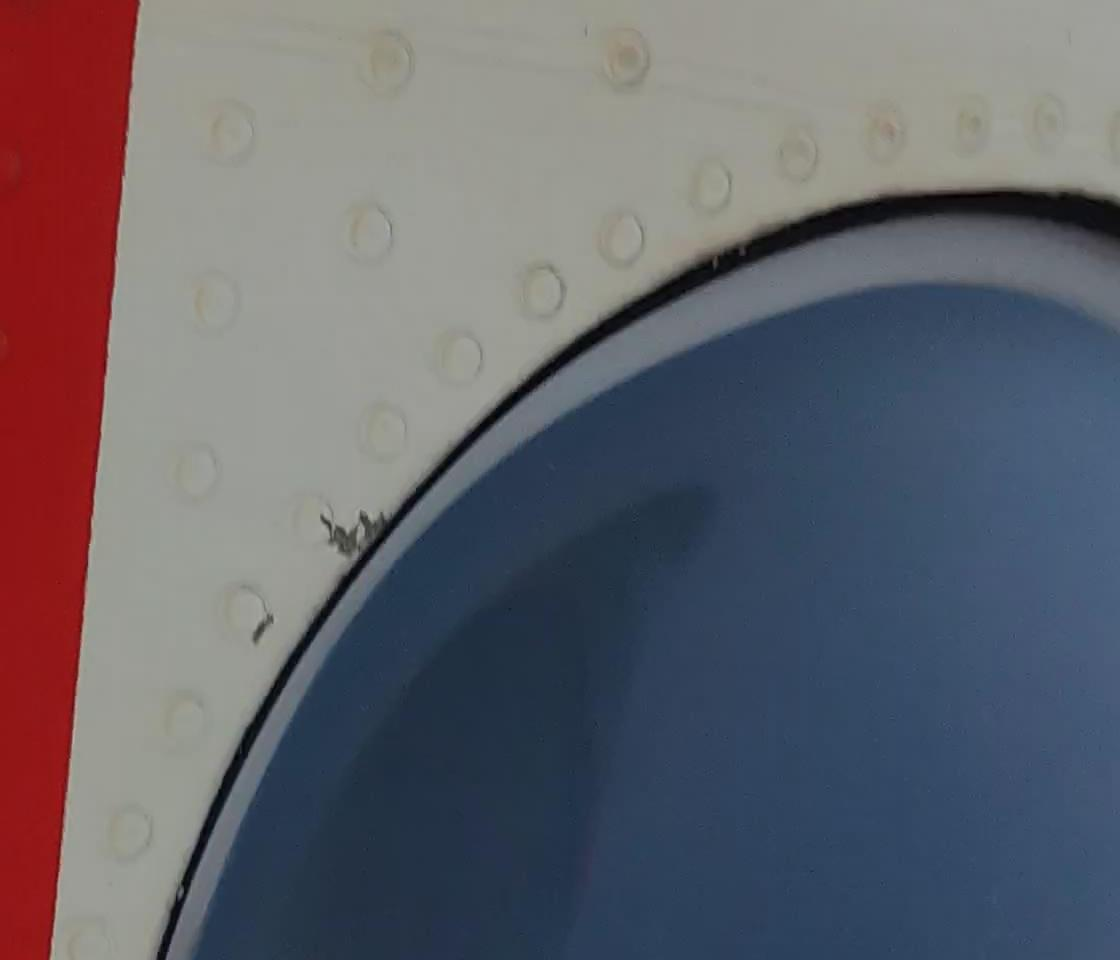paint_peel: (311, 504, 398, 562)
